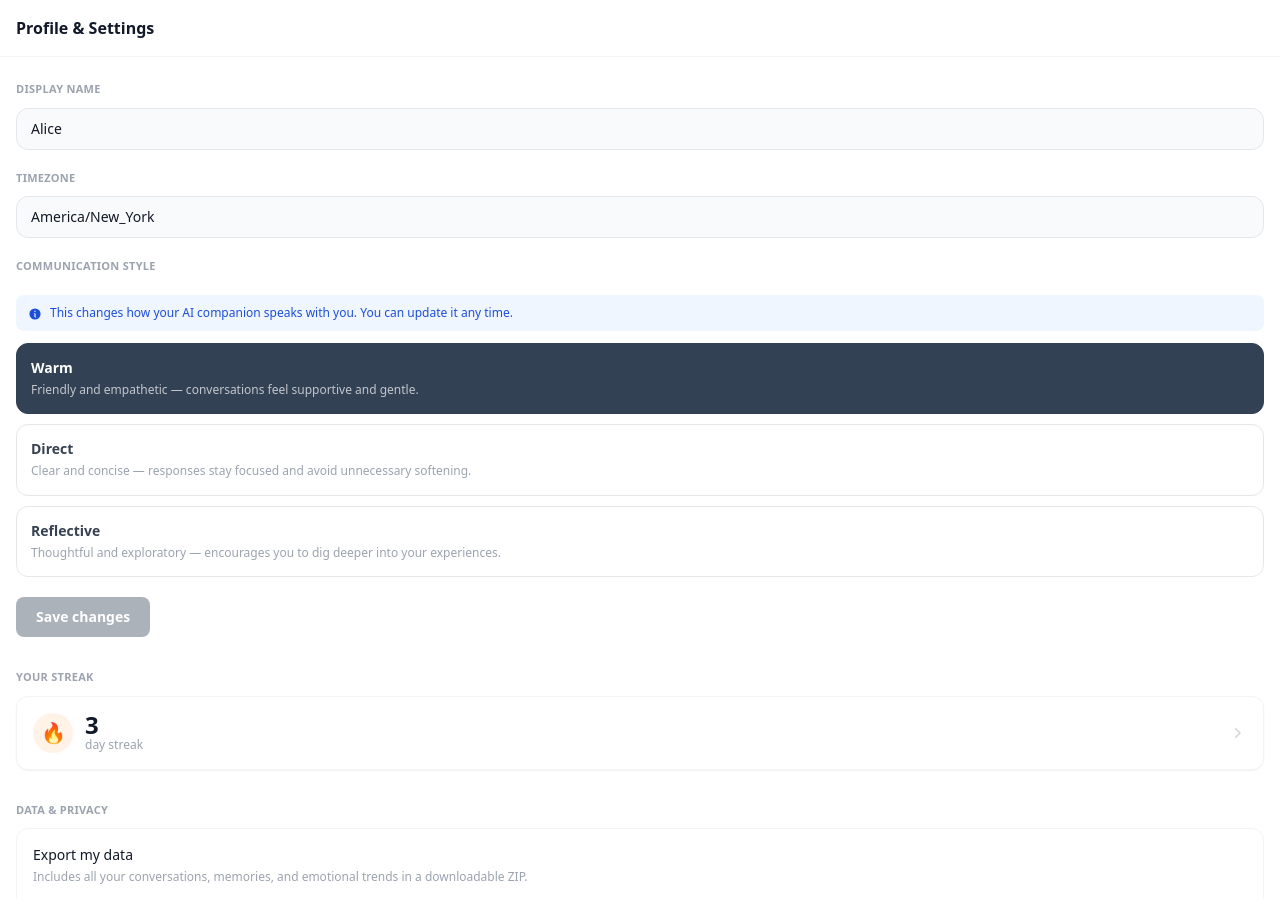
SettingsScreen — save › shows a general error for other API failures
Step 1. Type "!" into the field named "display name" → (640, 128), box [16,108,1264,150]
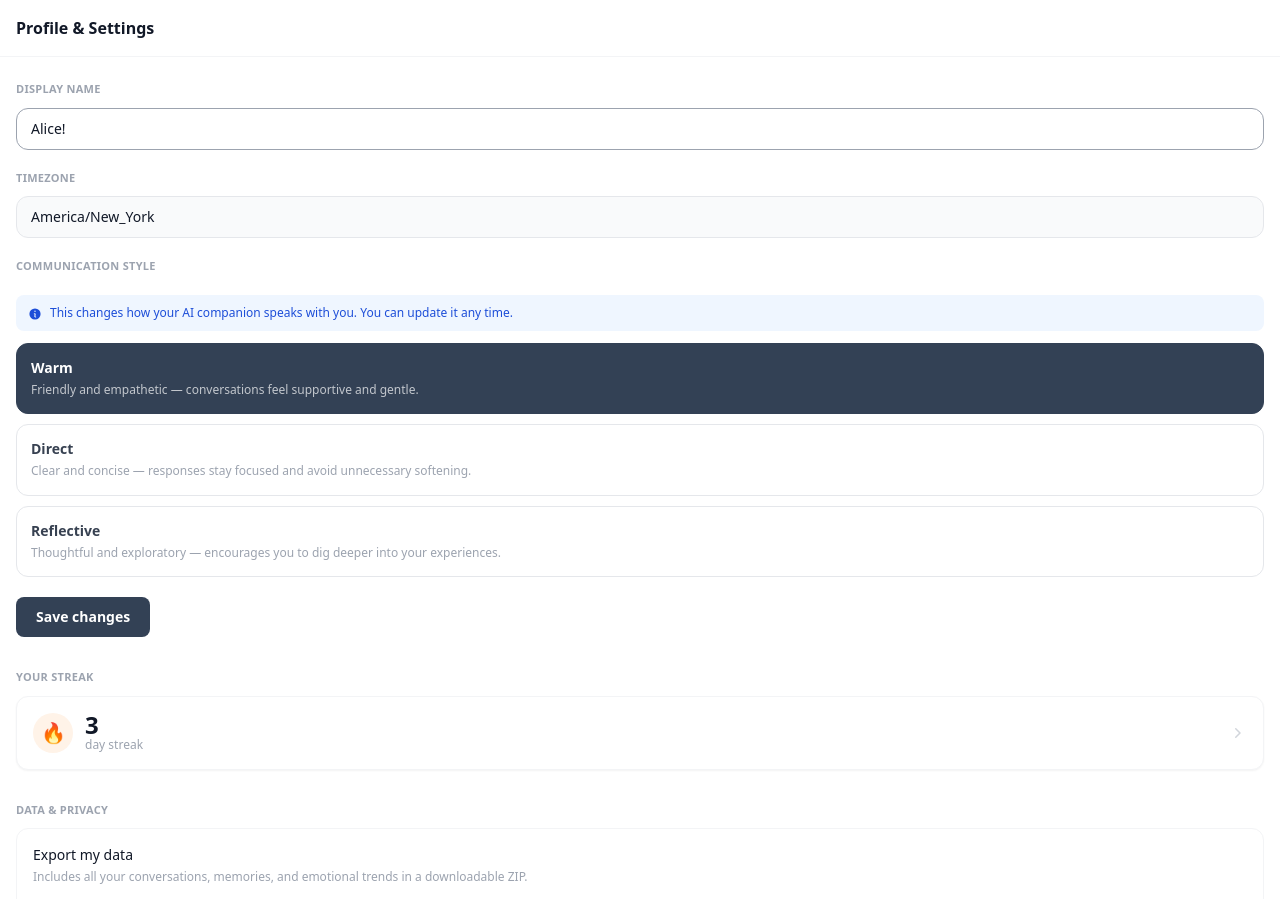
Step 2. Click the button "Save changes" → click(83, 617), box [16,597,150,637]
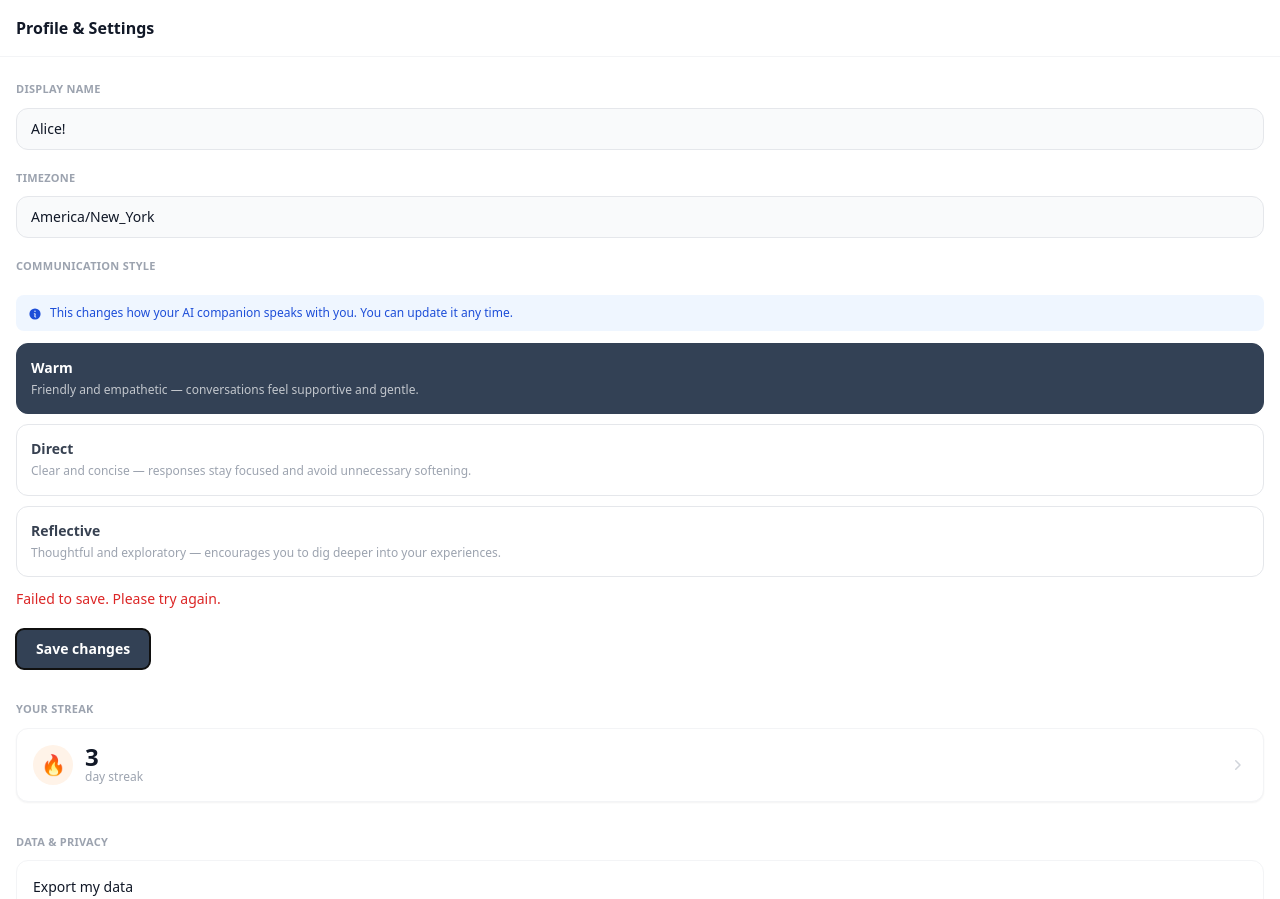
expect the message shows "Failed to save": met, box [16,589,221,608]
